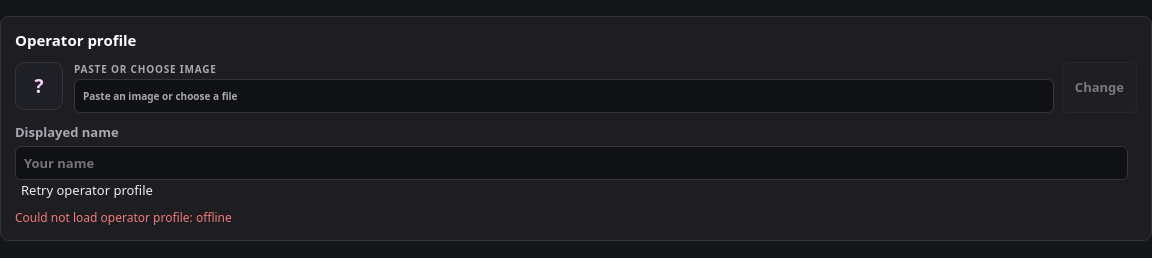
Test: Operator profile autosave lifecycle audit › keeps an unsuccessful load distinct from an editable profile and retries
Expected: the field labelled "Displayed name" is disabled, [15,146,1128,180]
Expected: the message shows "Could not load", [15,209,232,226]
Click the button "Retry operator profile": (87, 190) [15,180,159,200]
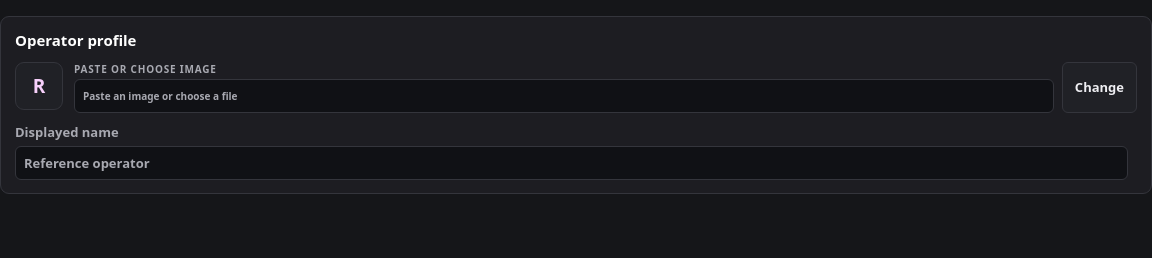
Expected: the field showing "Reference operator" is shown, [15,146,1128,180]
Expected: the message "Could not load operator profile: offline" is gone
